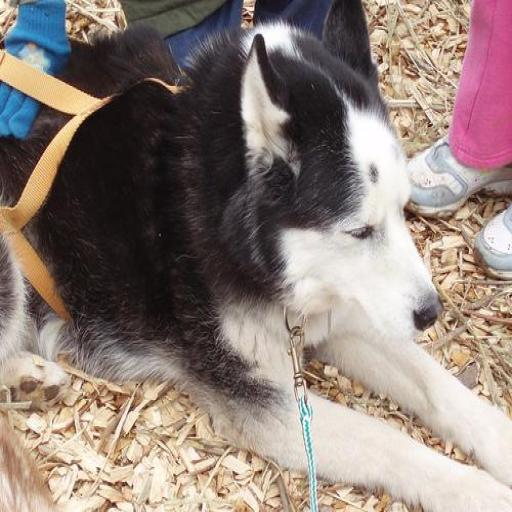dog_face: (242, 6, 428, 333)
